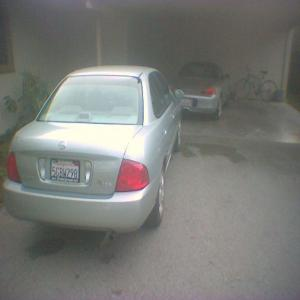Vehicle-registration-plate: (52, 161, 81, 184)
